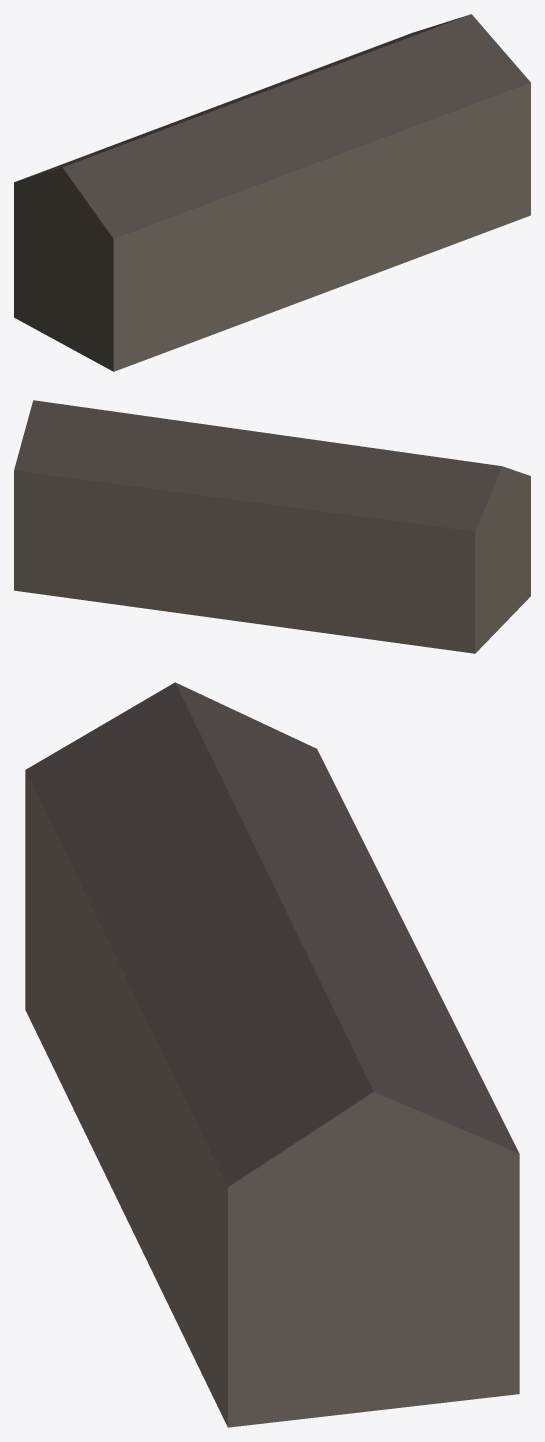
The picture shows the model from 3 angles, top to bottom: view 1: azimuth 30°, elevation 25°; view 2: azimuth 150°, elevation 25°; view 3: azimuth 270°, elevation 25°; orthographic projection. The views are drawn at different scales.
Visible parts, largest first — view 1: HP-w1365659930; view 2: HP-w1365659930; view 3: HP-w1365659930.
Boxes of the visible parts, x1,y1,x2,y2 form: HP-w1365659930: (14,14,530,371); HP-w1365659930: (14,400,530,653); HP-w1365659930: (25,682,519,1427).
Bounding box in the file's own units: 34.9 × 11.96 × 16.78.
